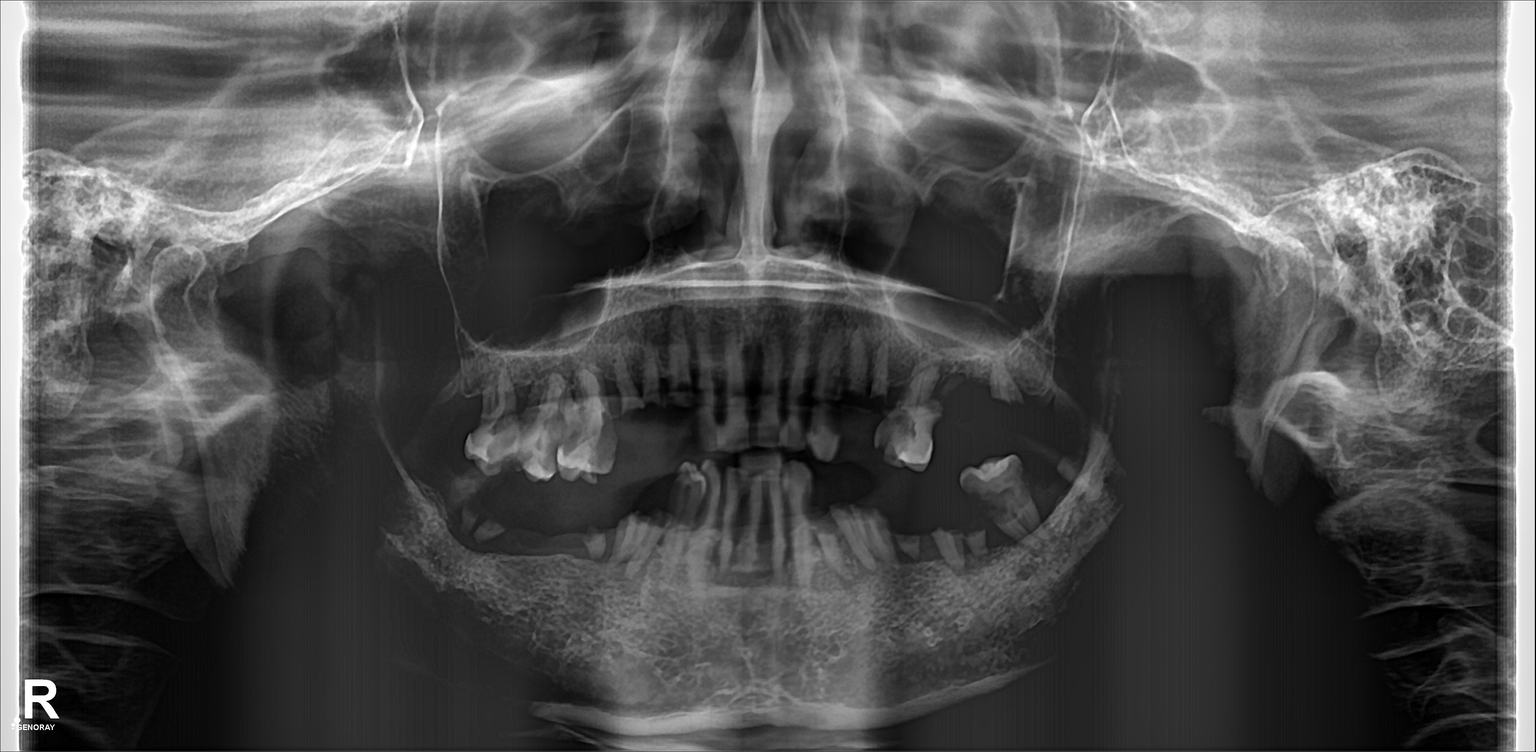Dental Caries: (879, 410, 921, 444)
Missing Tooth: (939, 339, 976, 447), (531, 488, 565, 579), (1035, 342, 1070, 426), (497, 491, 527, 569)
Retained Root: (968, 339, 1026, 431), (849, 329, 895, 442), (570, 486, 614, 575), (609, 359, 648, 459), (637, 346, 675, 448), (618, 486, 661, 573), (669, 329, 703, 432), (1043, 447, 1092, 517), (454, 488, 498, 557), (851, 486, 886, 567), (814, 484, 840, 582), (894, 488, 922, 572), (931, 491, 958, 573), (968, 493, 988, 572)
